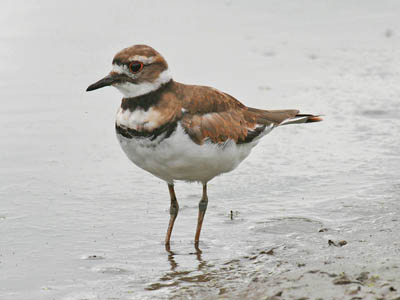bird: (72, 26, 329, 270)
